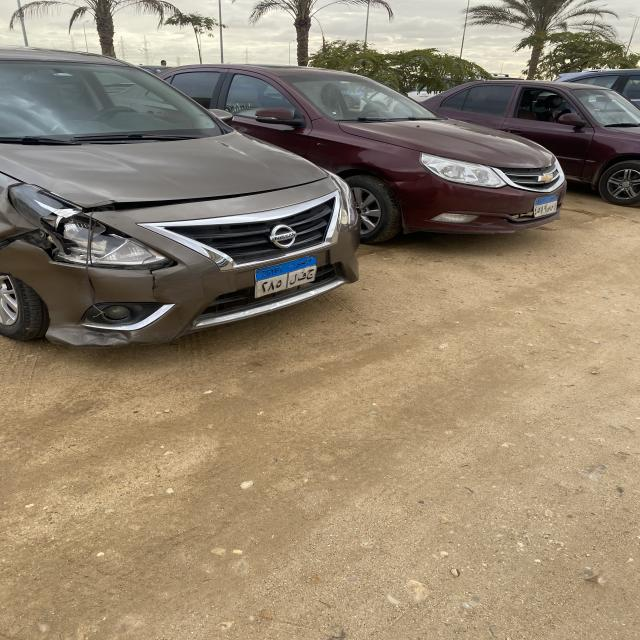License Plate: (255, 253, 317, 299), (534, 192, 559, 218)
